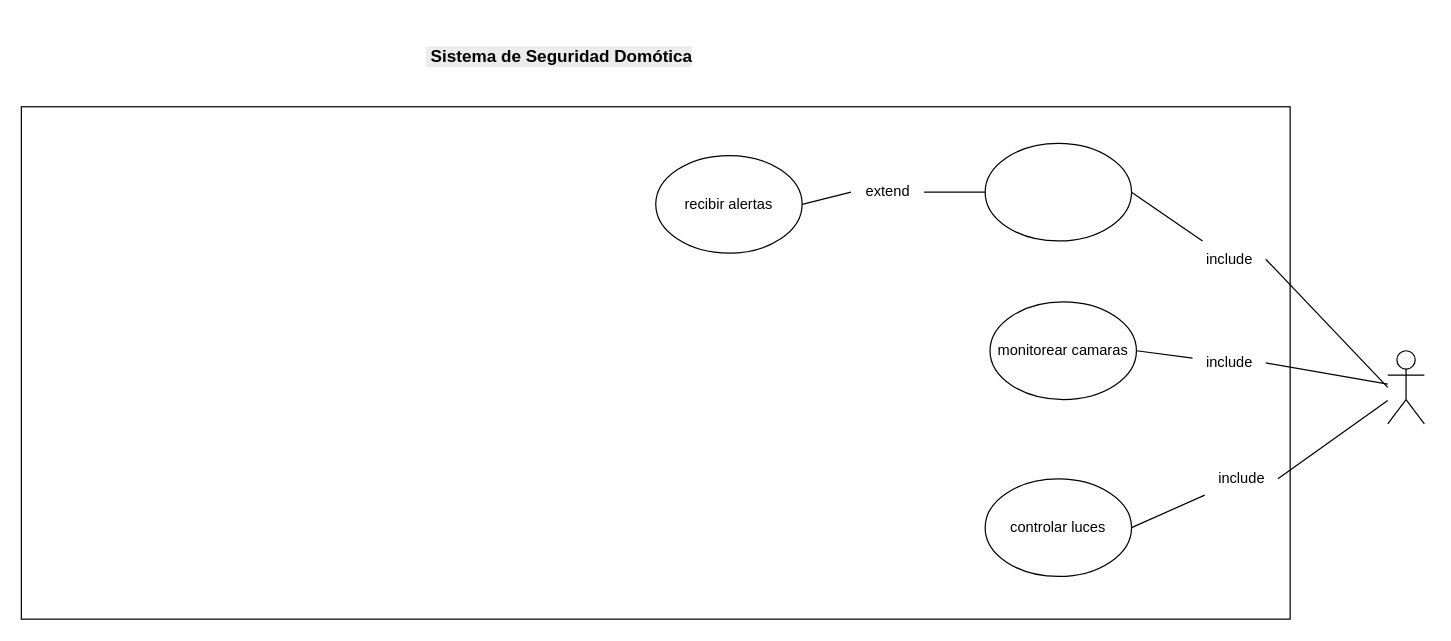
Image size: 1451x641. Some labels were removed from this diagram. Here are the shapes that lost their labels. From the top down, the box of each, then its label:
(984, 142, 1132, 241): acticvar alarmas
(1387, 350, 1424, 424): usuario
